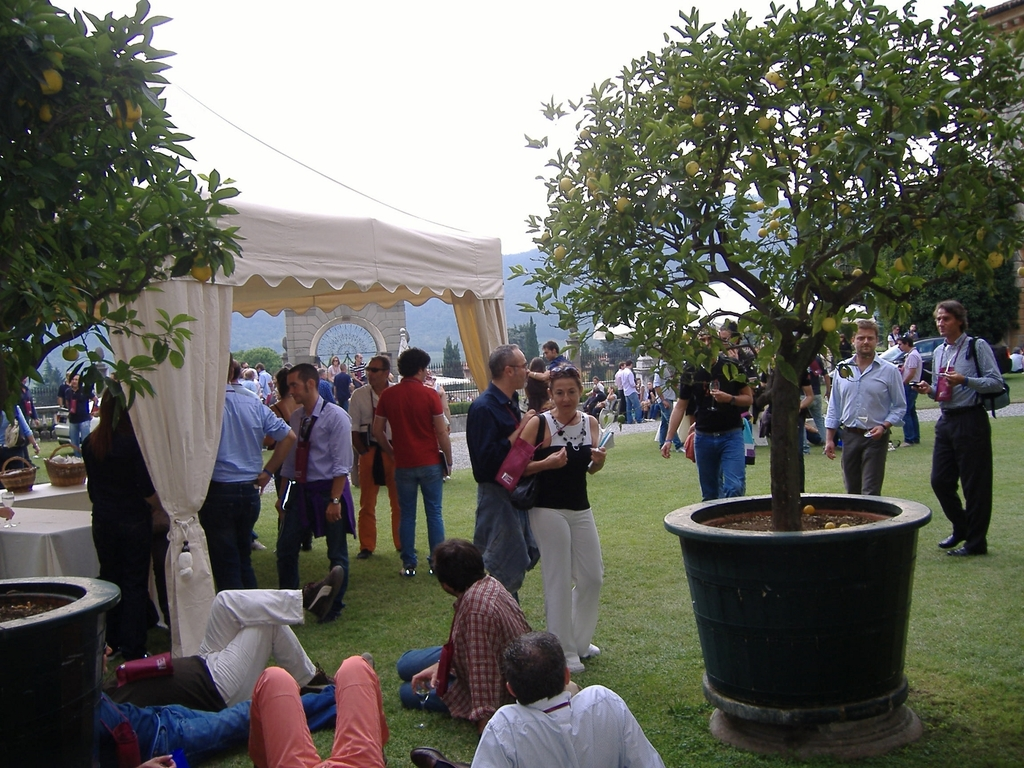Tree: (517, 17, 983, 451), (0, 2, 249, 425), (234, 346, 283, 373), (441, 339, 466, 386), (525, 318, 540, 365)
